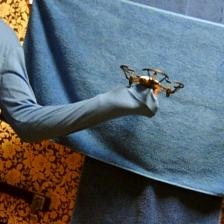drone: (120, 64, 185, 98)
